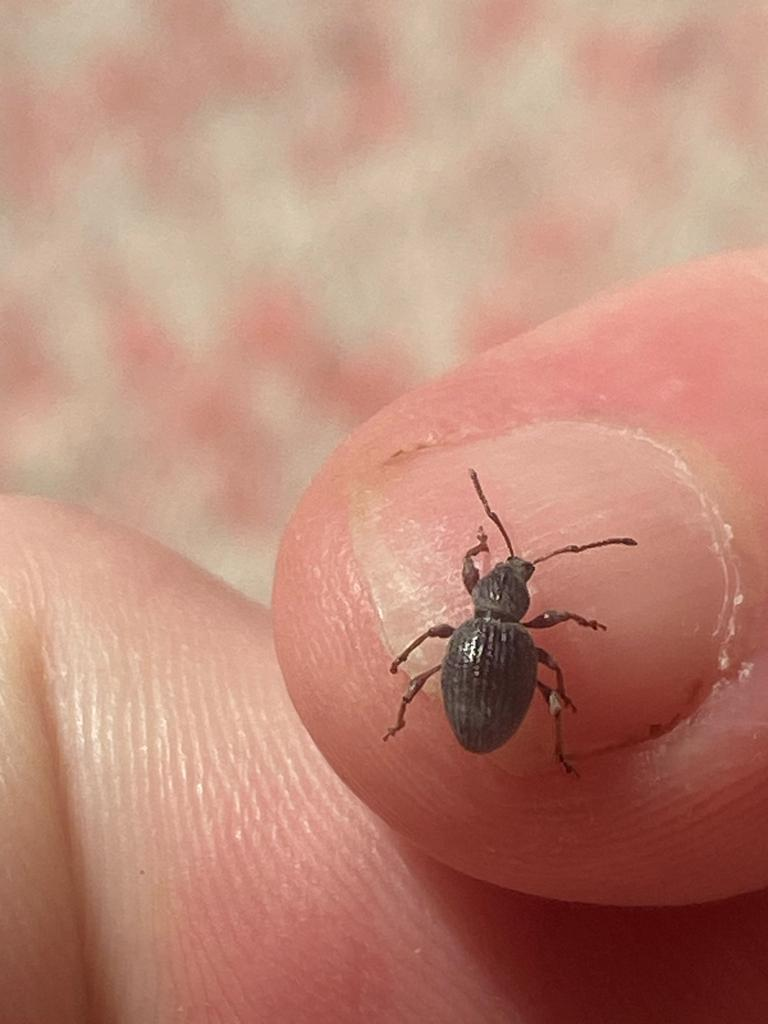weevils: (361, 443, 664, 801)
